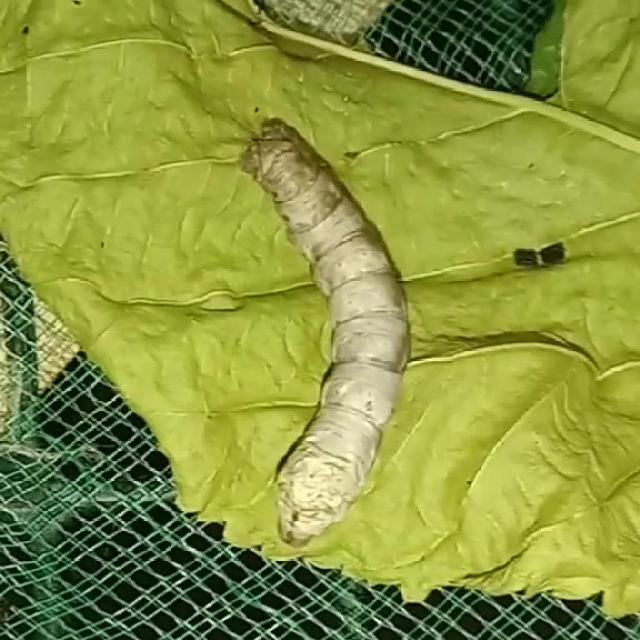Grasserie: (158, 80, 454, 570)
